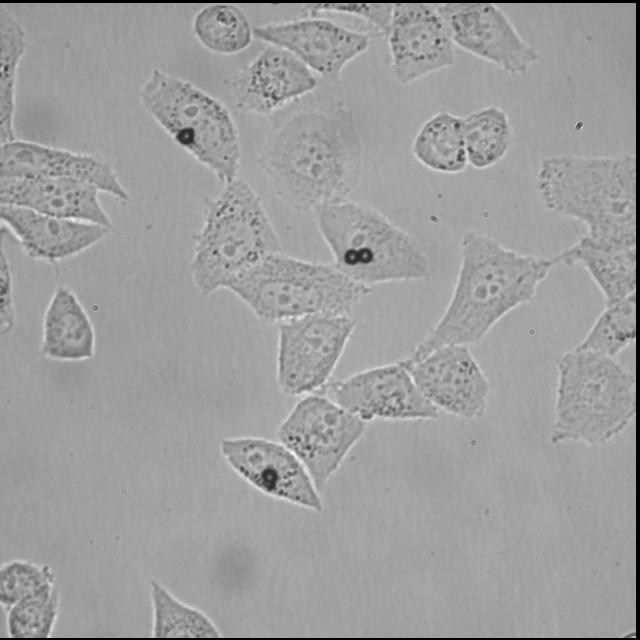microbeads: (358, 240, 377, 266), (174, 125, 196, 145), (344, 246, 361, 268)
